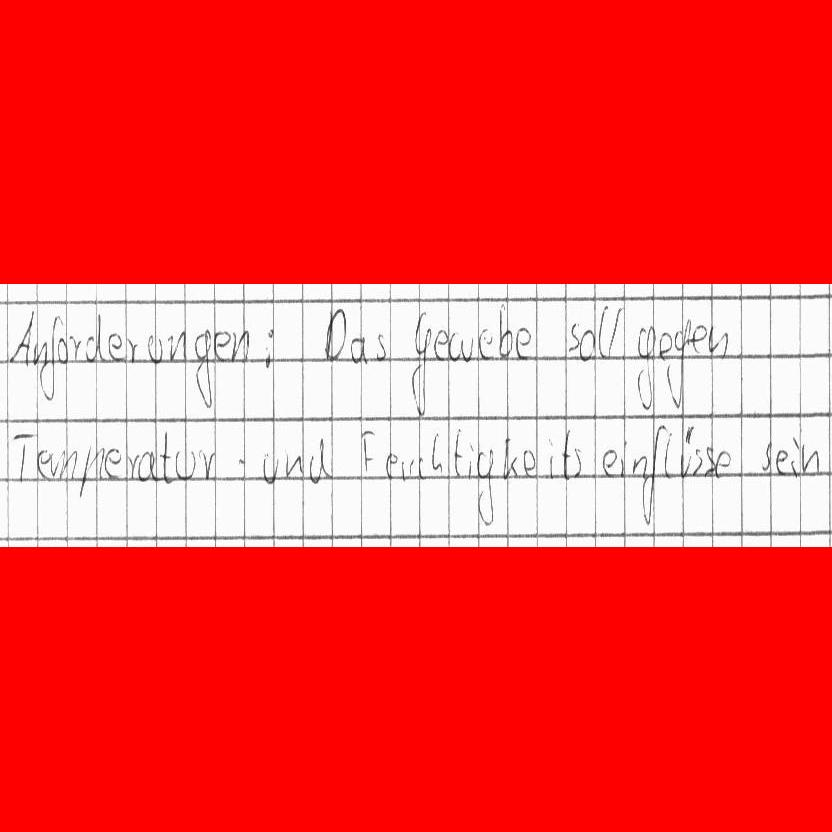Char: (666, 318, 693, 408), (410, 311, 432, 418), (643, 422, 665, 526), (635, 324, 657, 411), (75, 441, 105, 500), (39, 315, 58, 401), (9, 427, 35, 485), (193, 327, 211, 408), (477, 446, 494, 528), (8, 310, 33, 364), (308, 436, 334, 486), (326, 307, 348, 361), (84, 313, 108, 362), (47, 447, 78, 483), (357, 425, 378, 475), (606, 303, 623, 362), (705, 325, 732, 361), (500, 435, 521, 481), (497, 303, 514, 358), (679, 422, 695, 479), (158, 430, 174, 486), (197, 445, 221, 482), (448, 330, 474, 364), (427, 430, 447, 474), (229, 327, 252, 364), (166, 329, 189, 365), (134, 449, 158, 483), (514, 322, 533, 362), (102, 444, 123, 480), (596, 304, 609, 361), (347, 331, 368, 366), (560, 426, 573, 482), (260, 451, 281, 484), (261, 326, 277, 369), (175, 450, 197, 481), (106, 333, 127, 363), (284, 449, 305, 479), (34, 446, 51, 483), (476, 328, 494, 362), (122, 450, 140, 484), (758, 440, 776, 474), (212, 330, 231, 362), (521, 449, 541, 479), (662, 430, 674, 480), (713, 449, 733, 479), (579, 327, 596, 362), (146, 333, 164, 365), (657, 329, 673, 365), (453, 426, 463, 482), (799, 444, 818, 473), (374, 332, 390, 366), (599, 446, 616, 478), (433, 329, 449, 362), (570, 445, 584, 481), (702, 444, 716, 480), (789, 435, 800, 479), (124, 336, 140, 366), (691, 324, 706, 356), (617, 437, 629, 477), (568, 319, 581, 355), (32, 339, 49, 366), (383, 451, 398, 480), (546, 434, 555, 482), (690, 445, 703, 478), (775, 446, 789, 475), (633, 453, 648, 480), (465, 440, 475, 480), (56, 336, 69, 365), (399, 456, 413, 482), (70, 334, 82, 361), (417, 454, 427, 481), (237, 455, 248, 468)
